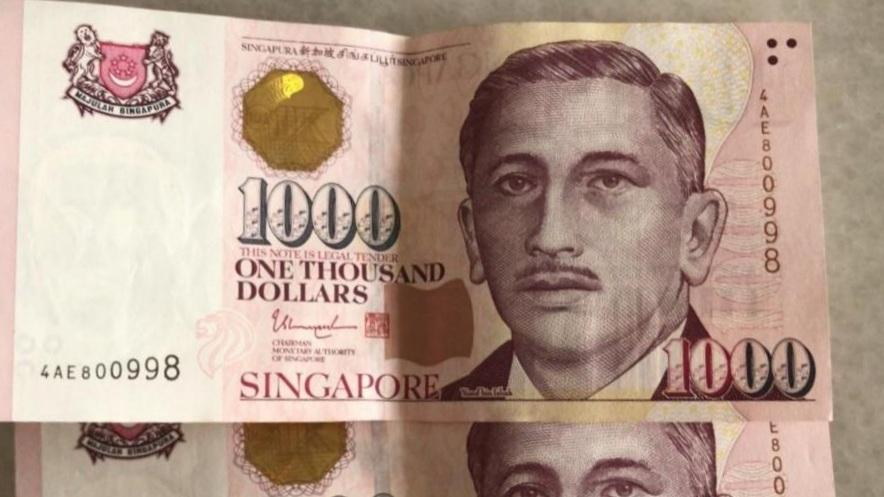1000SingaporeDollar: (0, 23, 820, 419)
